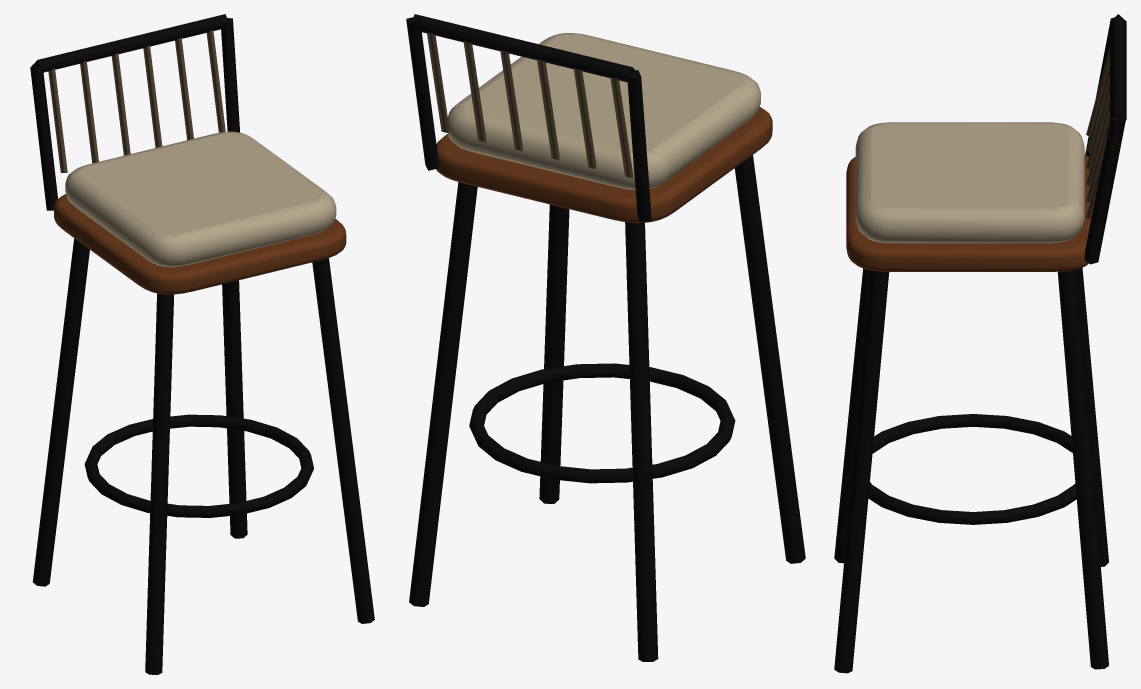
Rendered from bar-stool-lod1.glb.
3 renders of one model, left to right at view 1: azimuth 30°, elevation 25°; view 2: azimuth 150°, elevation 25°; view 3: azimuth 270°, elevation 25°, orthographic. The views are drawn at different scales.
Visible parts, largest first — view 1: Powder-coated bronze aluminium, Oatmeal performance fabric, Oiled teak, Woven taupe rope; view 2: Powder-coated bronze aluminium, Oatmeal performance fabric, Oiled teak, Woven taupe rope; view 3: Powder-coated bronze aluminium, Oatmeal performance fabric, Oiled teak, Woven taupe rope.
Part boxes in pixels (x1,y1,x2,y2): Powder-coated bronze aluminium: (30, 14, 374, 674); Oatmeal performance fabric: (65, 131, 336, 267); Oiled teak: (54, 194, 346, 294); Woven taupe rope: (48, 29, 225, 172); Powder-coated bronze aluminium: (406, 14, 805, 661); Oatmeal performance fabric: (448, 33, 760, 190); Oiled teak: (436, 107, 772, 222); Woven taupe rope: (427, 32, 632, 178); Powder-coated bronze aluminium: (834, 14, 1126, 673); Oatmeal performance fabric: (855, 122, 1084, 243); Oiled teak: (846, 154, 1090, 271); Woven taupe rope: (1086, 47, 1110, 219).
Size of the model in its own units: 0.4658 by 1.01 by 0.4864.
